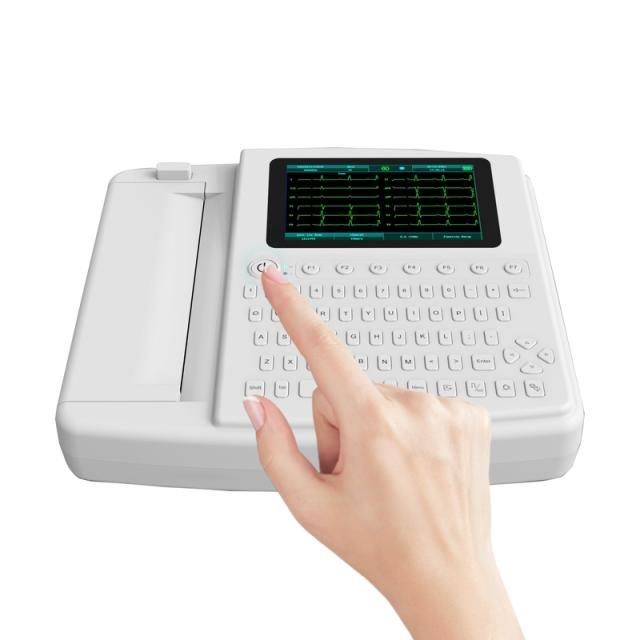Monitor: (54, 147, 585, 493)
